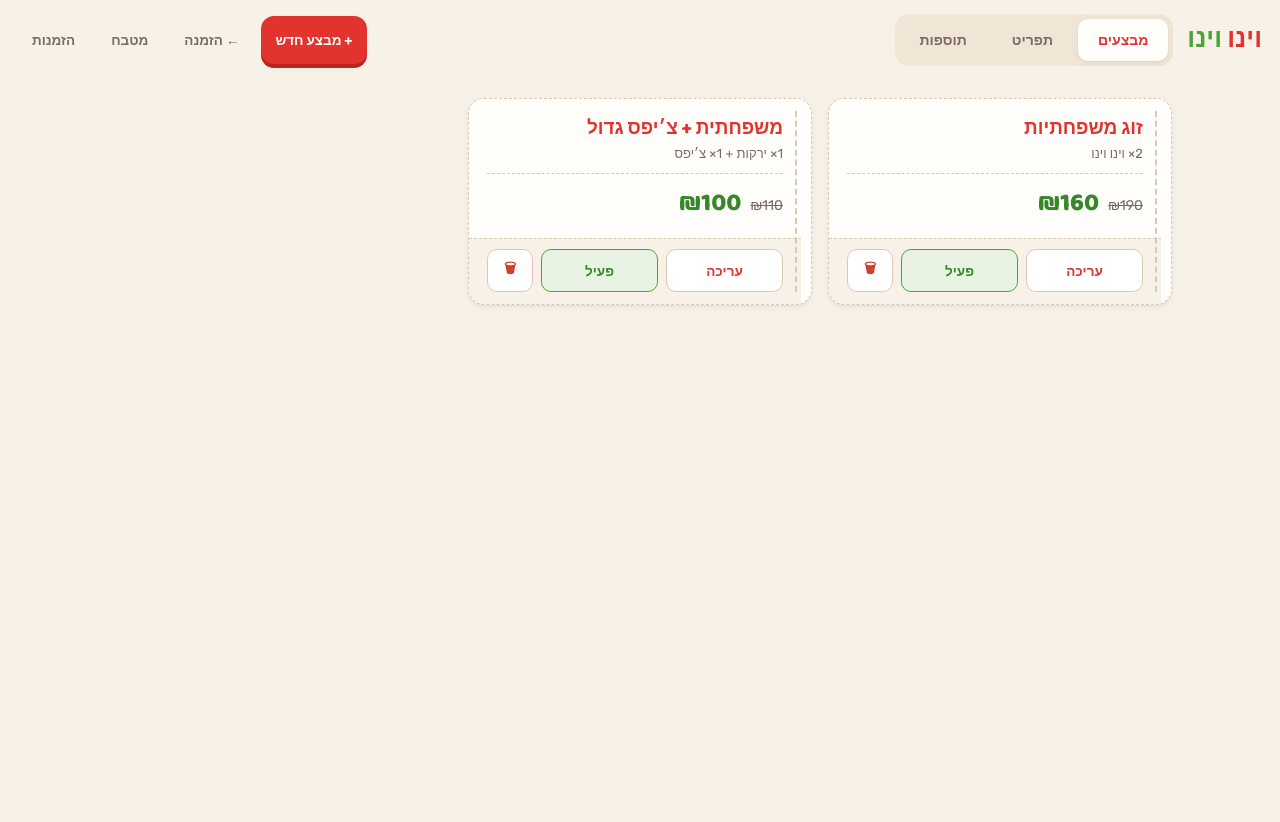
menu CRUD › adds a new item through the editor
Click the tab "תפריט".
click(1032, 40)  # box [992,19,1073,61]
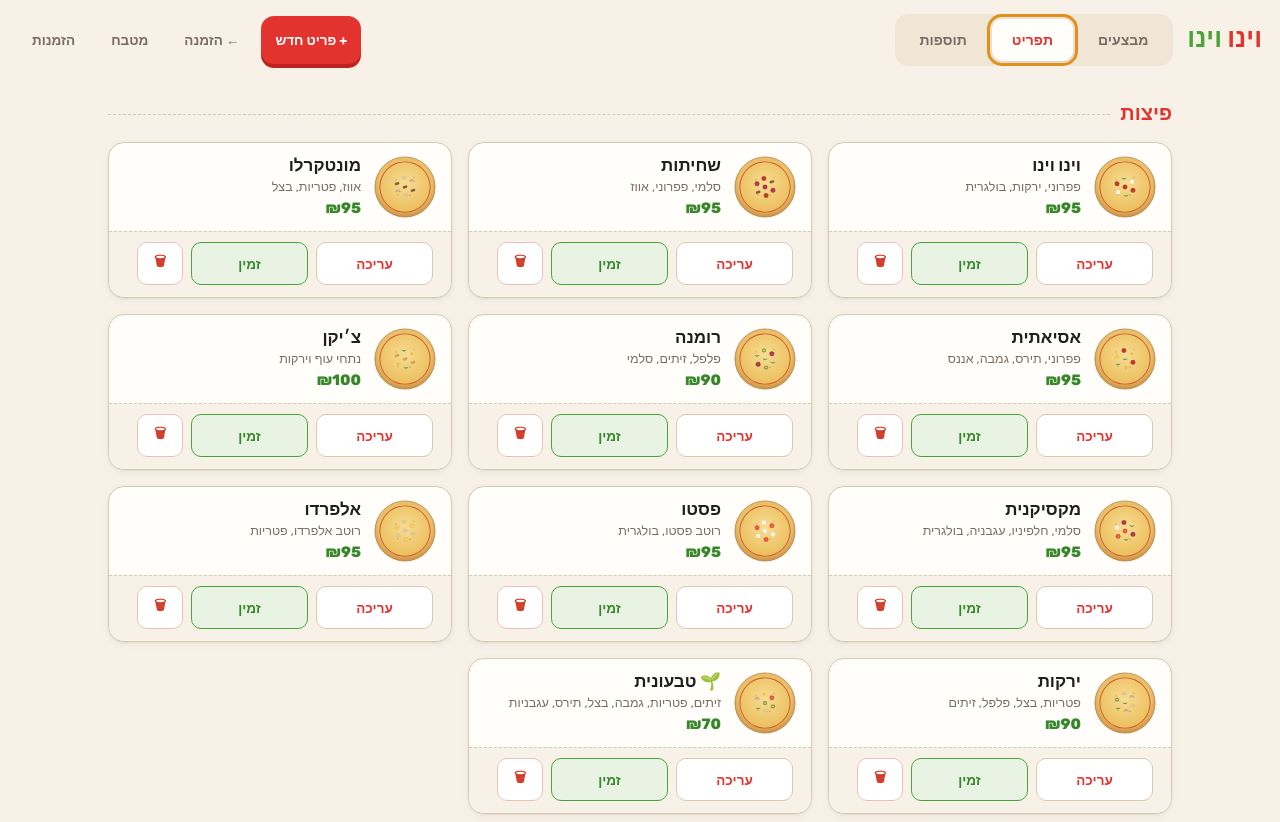
Click the button "+ פריט חדש".
click(311, 40)  # box [261,16,362,64]
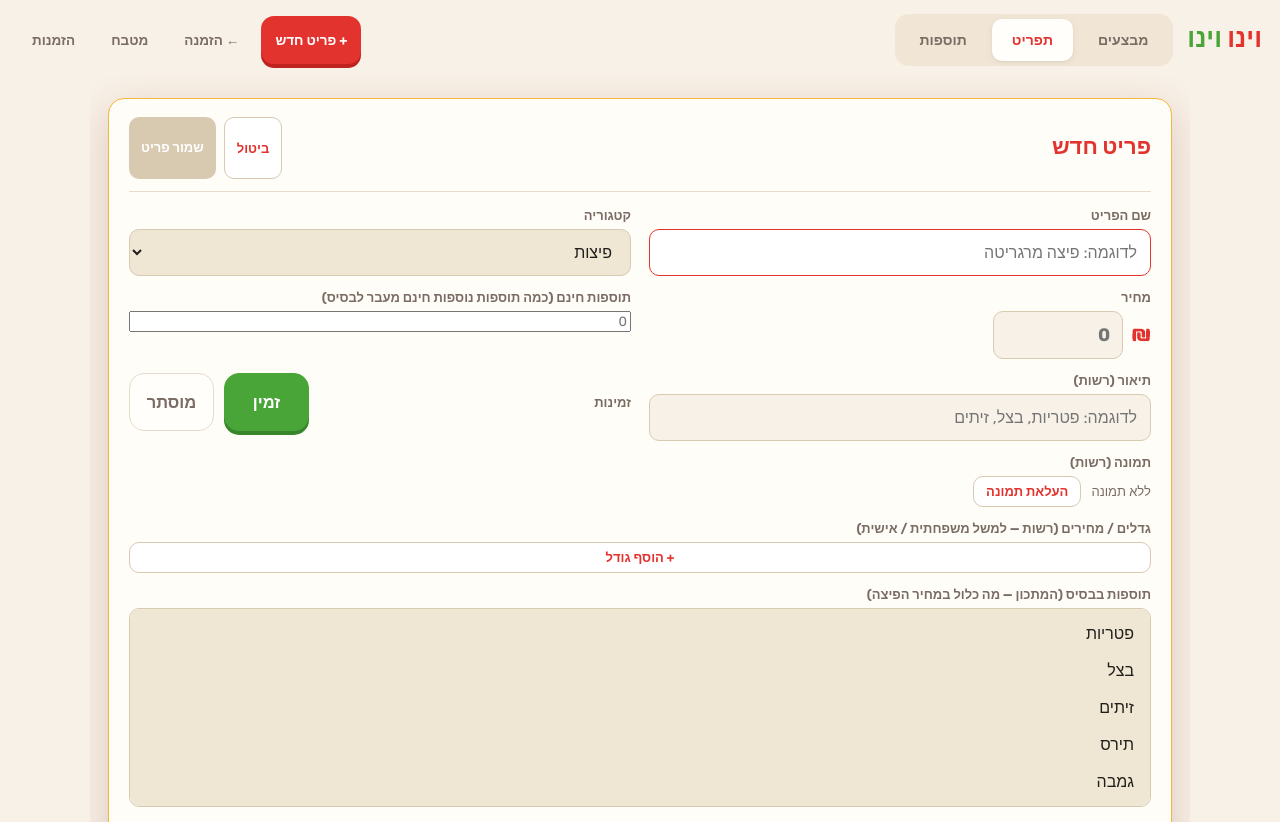
Type "קלצונה" into the field with placeholder "לדוגמה: פיצה מרגריטה".
click(900, 252); type("קלצונה")  # box [649,229,1151,276]
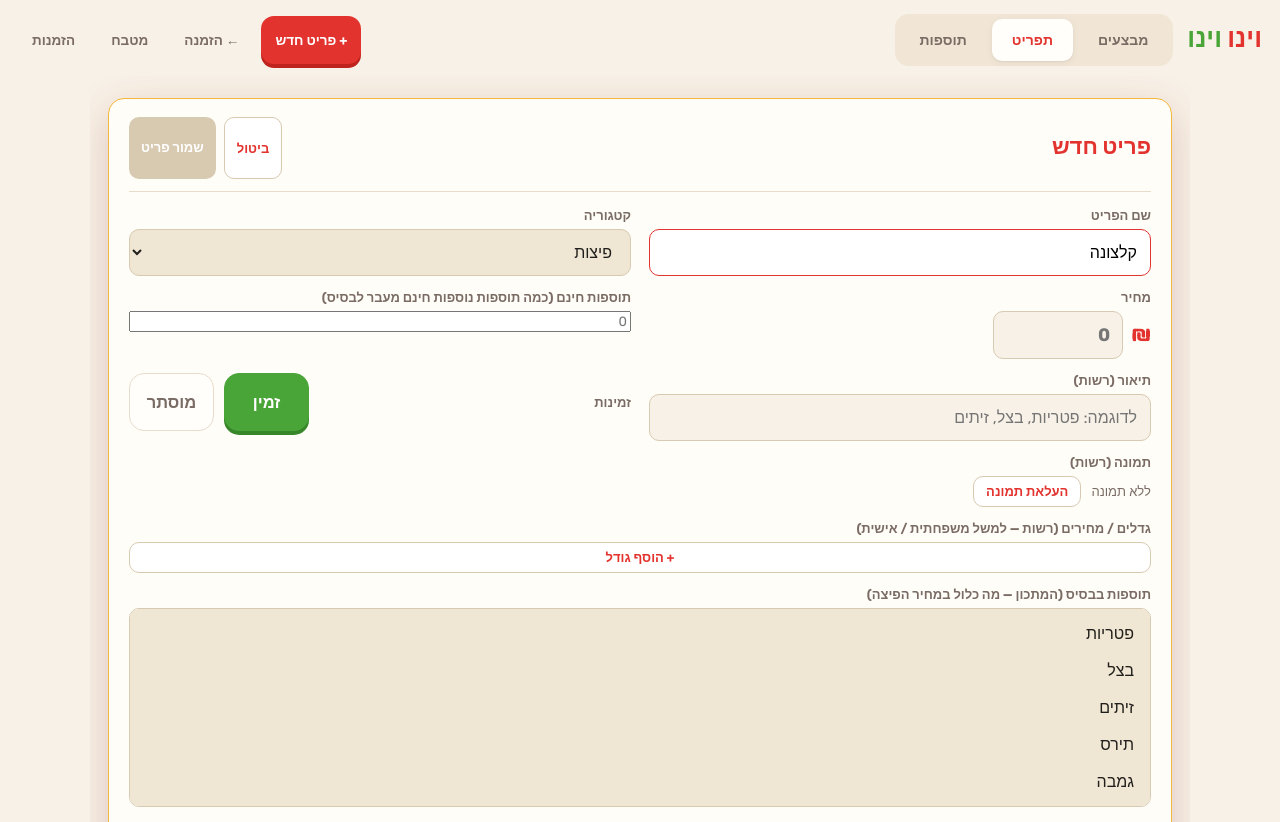
// a plain (non-pizza) category → a single price field
Select "תוספות" in the dropdown labelled "קטגוריה" at [380, 252], box [129,229,631,276]
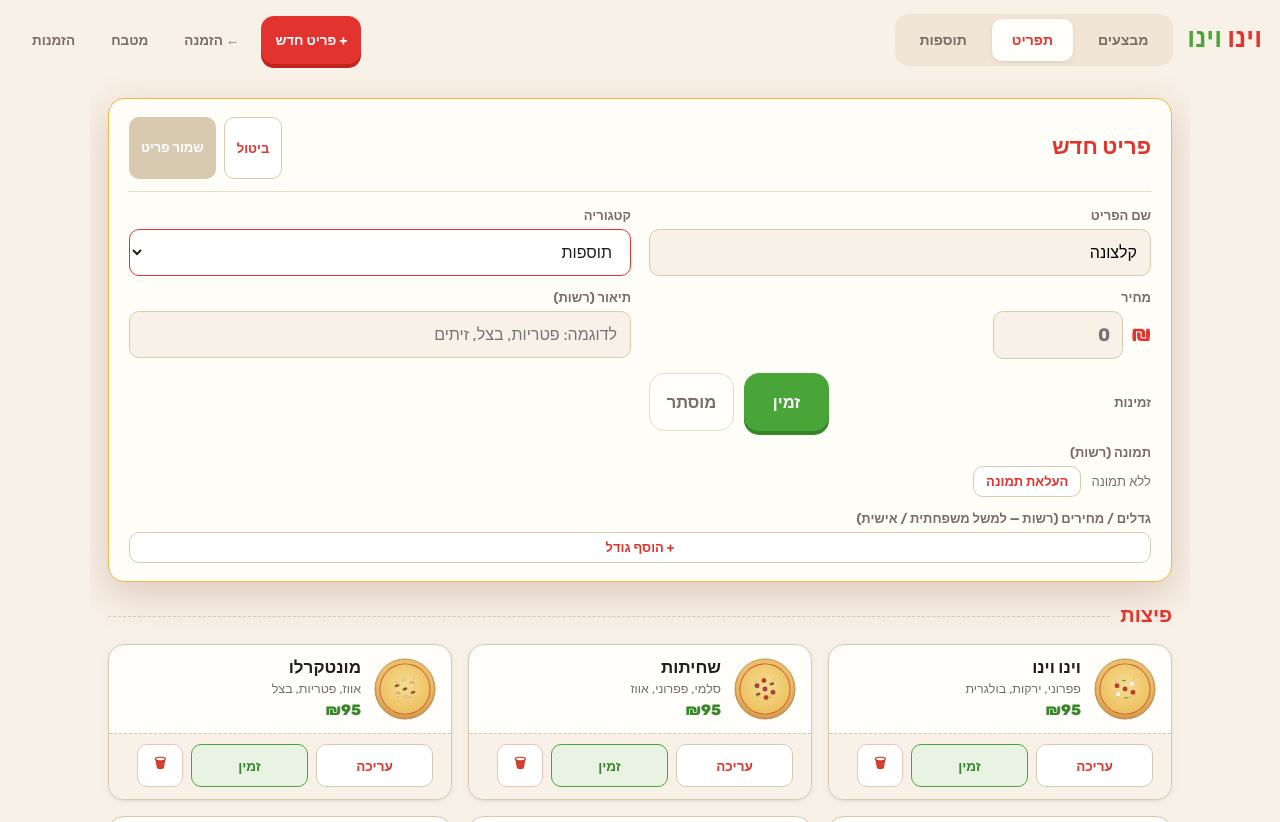
Type "45" into the field with placeholder "0".
click(1058, 335); type("45")  # box [993,311,1123,359]
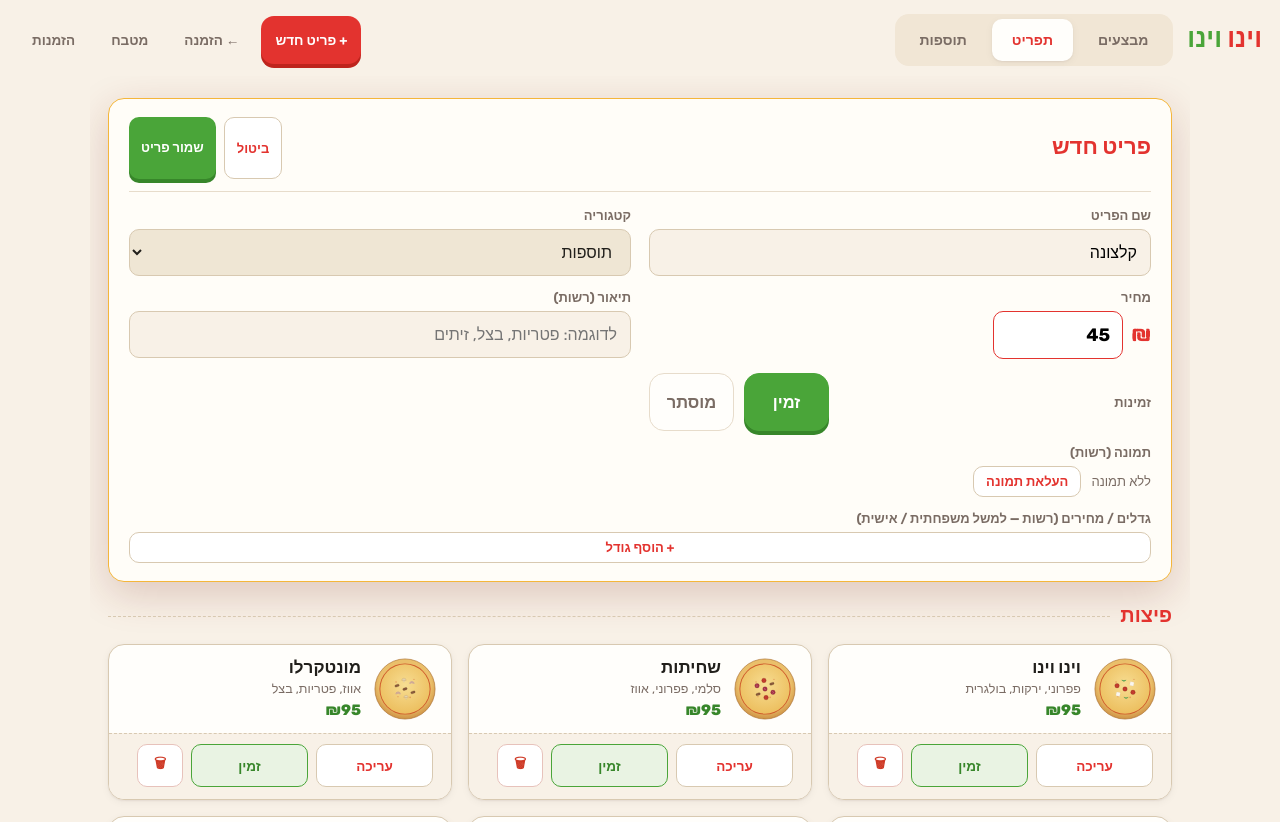
Click the button "שמור פריט".
click(172, 148)  # box [129,117,216,179]
(page scrolled)
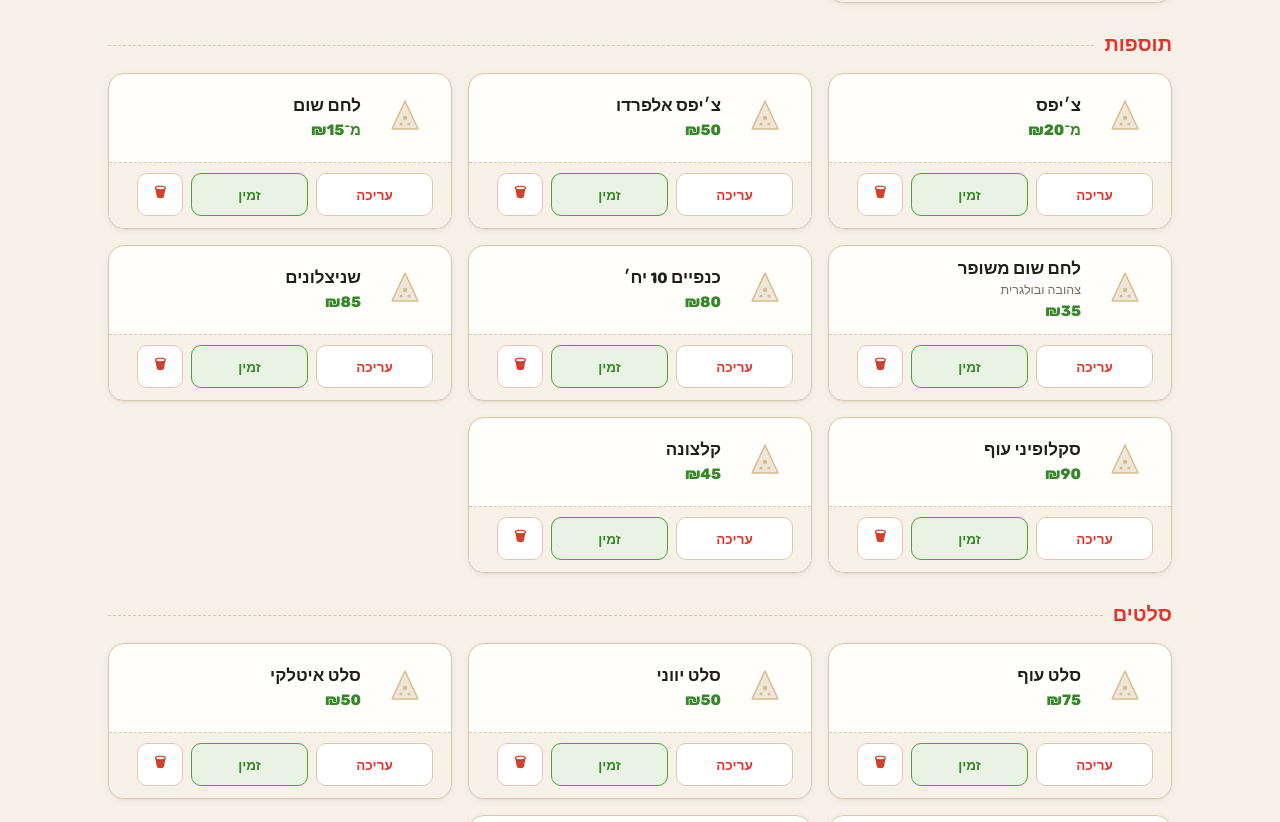
Expected: the text "קלצונה" is shown, [666,441,721,461]
